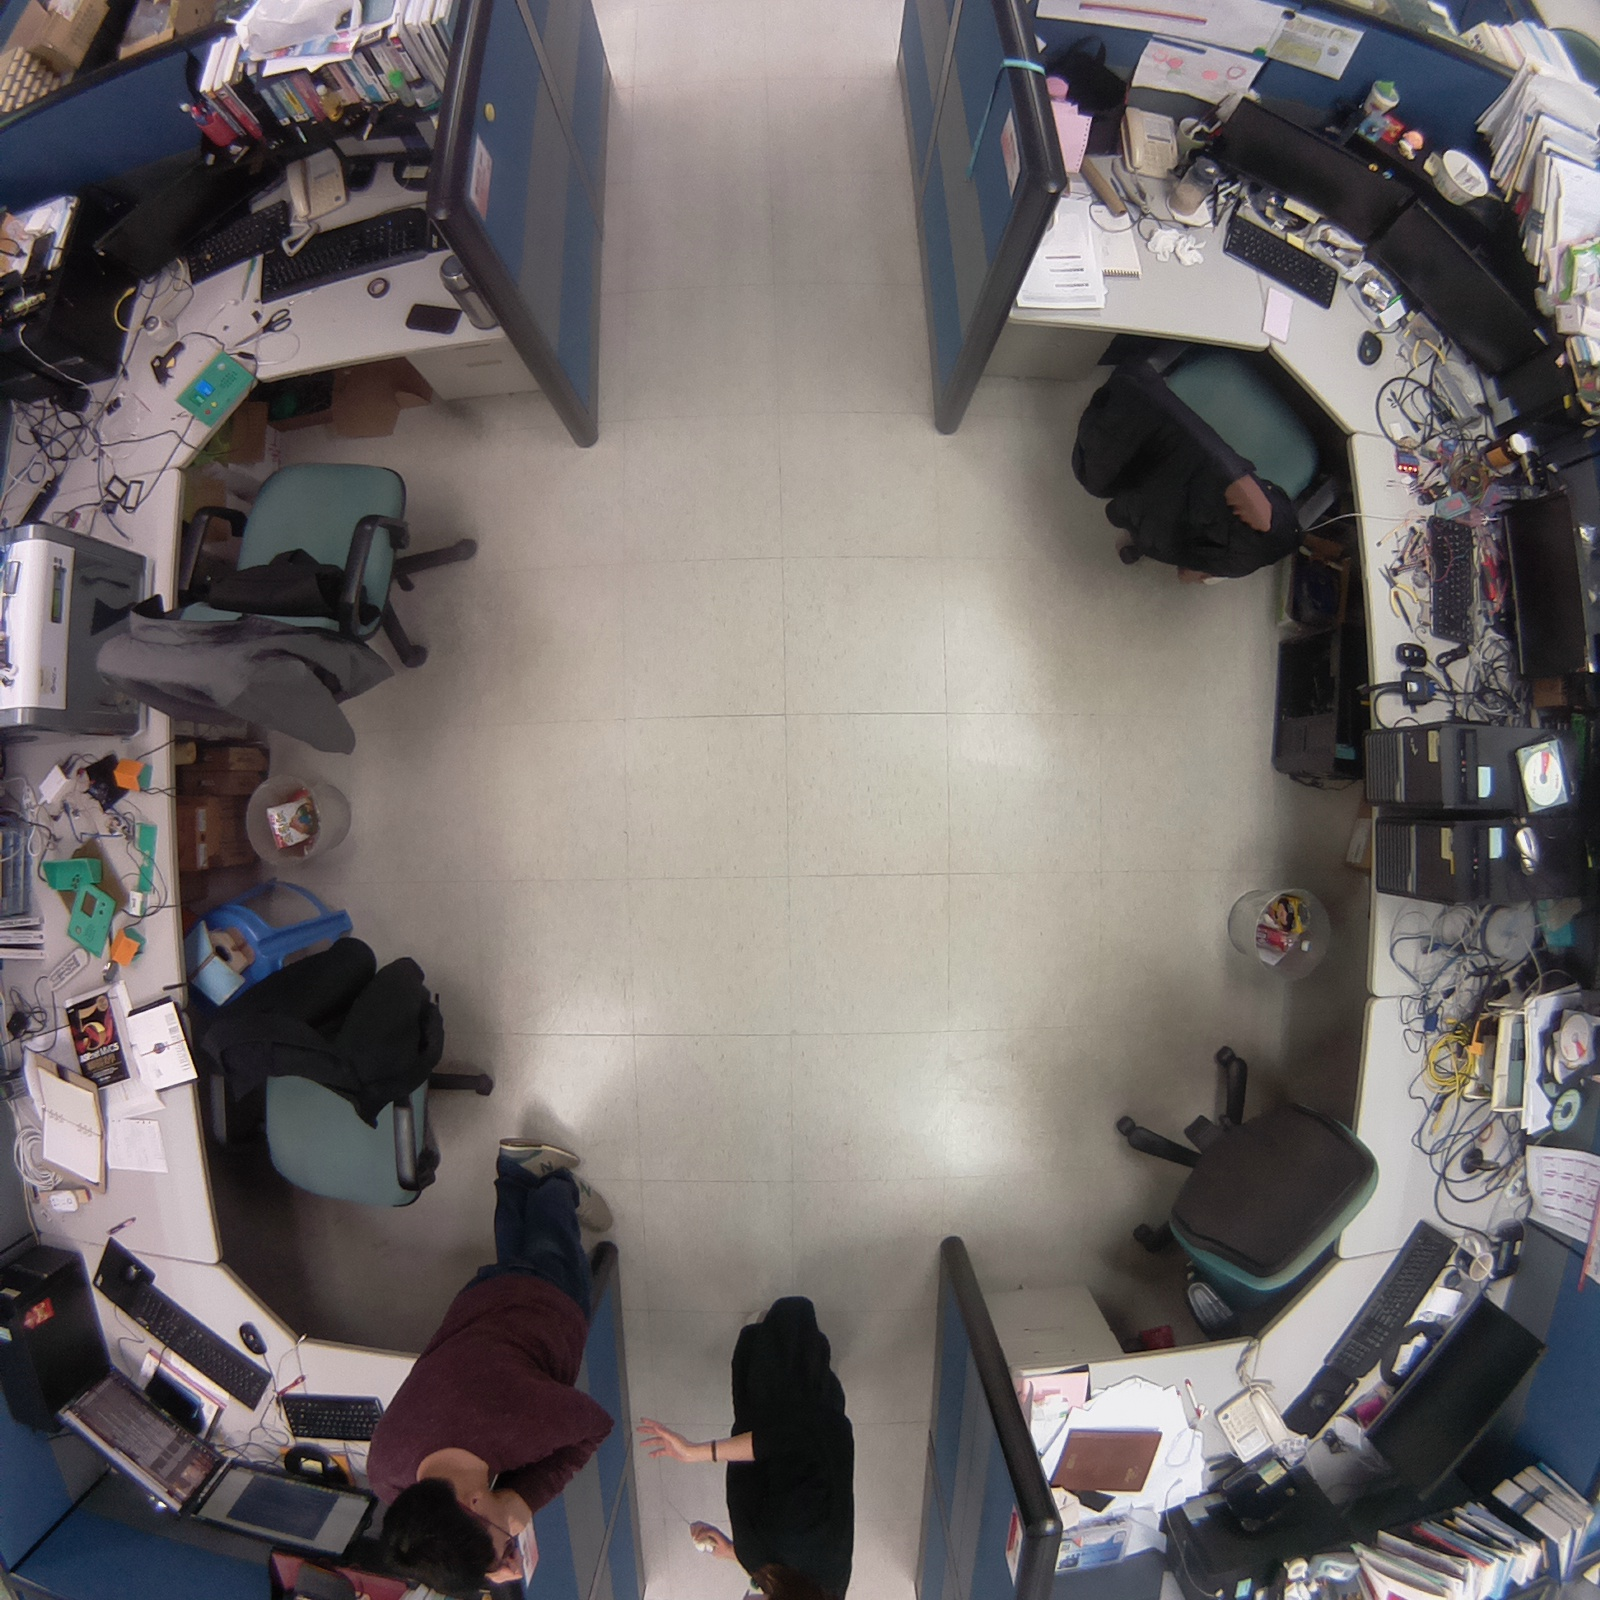chair: (81, 437, 517, 778), (1088, 1029, 1399, 1340), (209, 922, 527, 1224), (1053, 324, 1365, 596)
head: (372, 1468, 533, 1600)
standing: (360, 1127, 616, 1600), (697, 1280, 879, 1600)
